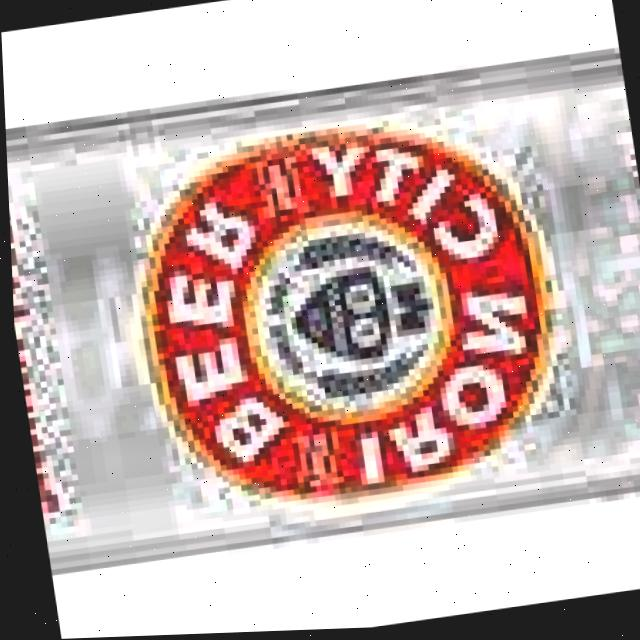metal: (1, 22, 640, 592)
